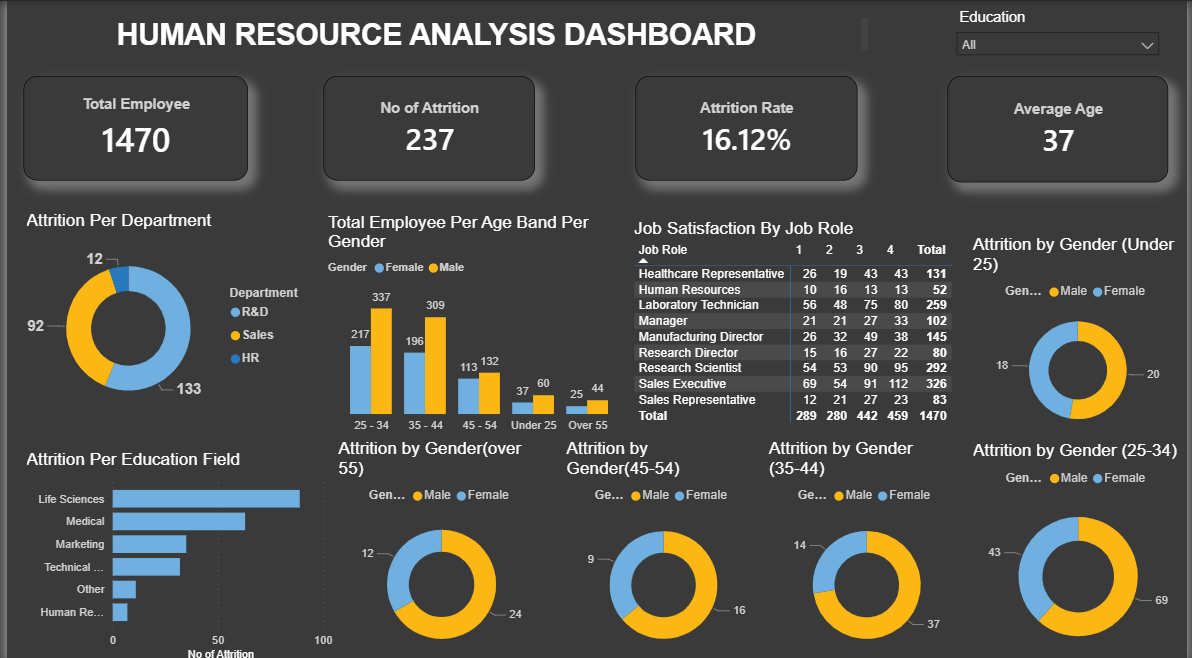

This screenshot's page, from the dashboard's own definition file:
{"tool":"powerbi","page":{"name":"Page 1","canvas":[1280,720],"ordinal":0},"visuals":[{"type":"cardVisual","fields":{"Data":["HR data._Total Employee"]},"box":[17.2,81.6,243.5,113.2],"z":0},{"type":"cardVisual","fields":{"Data":["HR data._No of Attrition"]},"box":[343.8,81.6,229.2,113.2],"z":1000},{"type":"cardVisual","fields":{"Data":["HR data.% Attrition"]},"box":[681.4,81.8,240.8,113.6],"z":2000},{"type":"cardVisual","fields":{"Data":["HR data._Average Age"]},"box":[1020.6,81.8,239.2,115.1],"z":3000},{"type":"textbox","box":[0,13.6,938.8,45.4],"z":4000},{"type":"donutChart","title":" Attrition Per Department","fields":{"Category":["HR data.Department"],"Y":["HR data._No of Attrition"]},"box":[16.7,227.1,327.1,233.2],"z":5000},{"type":"clusteredColumnChart","title":"Total Employee Per Age Band Per Gender","fields":{"Category":["HR data.CF_age band"],"Y":["HR data._Total Employee"],"Series":["HR data.Gender"]},"box":[343.7,227.9,338.2,248.2],"z":6000},{"type":"pivotTable","title":"Job Satisfaction By Job Role","fields":{"Rows":["HR data.Job Role"],"Columns":["HR data.Job Satisfaction"],"Values":["HR data._Total Employee"]},"box":[674.6,235.3,362.1,233.5],"z":7000},{"type":"barChart","title":"Attrition Per Education Field","fields":{"Y":["HR data._No of Attrition"],"Category":["HR data.Education Field"]},"box":[16.5,486.5,341.9,233.5],"z":7001},{"type":"donutChart","title":" Attrition by Gender (Under 25)","fields":{"Category":["HR data.Gender"],"Y":["HR data._No of Attrition"]},"box":[1042.8,253.5,236.3,222],"z":7002},{"type":"donutChart","title":" Attrition by Gender (25-34)","fields":{"Category":["HR data.Gender"],"Y":["HR data._No of Attrition"]},"box":[1042.3,476.1,237.1,244.5],"z":7003},{"type":"donutChart","title":" Attrition by Gender (35-44)","fields":{"Category":["HR data.Gender"],"Y":["HR data._No of Attrition"]},"box":[820.7,475.5,221.1,245.3],"z":7004},{"type":"donutChart","title":" Attrition by Gender(45-54)","fields":{"Category":["HR data.Gender"],"Y":["HR data._No of Attrition"]},"box":[601.1,475.5,219.6,245.3],"z":7005},{"type":"donutChart","title":" Attrition by Gender(over 55)","fields":{"Category":["HR data.Gender"],"Y":["HR data._No of Attrition"]},"box":[354.6,475,232.6,244],"z":7006},{"type":"slicer","fields":{"Values":["HR data.Education"]},"box":[1020.6,3,239.2,66.6],"z":7007}]}

Visuals, with their boxes in screenshot pixels (x1, y1, x2, y2), scaled from the page's 1280x720 canvas onto the 1192x658 screenshot:
cardVisual - HR data._Total Employee: [left=16, top=75, right=243, bottom=178]
cardVisual - HR data._No of Attrition: [left=320, top=75, right=534, bottom=178]
cardVisual - HR data.% Attrition: [left=635, top=75, right=859, bottom=179]
cardVisual - HR data._Average Age: [left=950, top=75, right=1173, bottom=180]
textbox: [left=0, top=12, right=874, bottom=54]
" Attrition Per Department" donutChart: [left=16, top=208, right=320, bottom=421]
"Total Employee Per Age Band Per Gender" clusteredColumnChart: [left=320, top=208, right=635, bottom=435]
"Job Satisfaction By Job Role" pivotTable: [left=628, top=215, right=965, bottom=428]
"Attrition Per Education Field" barChart: [left=15, top=445, right=334, bottom=657]
" Attrition by Gender (Under 25)" donutChart: [left=971, top=232, right=1191, bottom=435]
" Attrition by Gender (25-34)" donutChart: [left=971, top=435, right=1191, bottom=657]
" Attrition by Gender (35-44)" donutChart: [left=764, top=435, right=970, bottom=657]
" Attrition by Gender(45-54)" donutChart: [left=560, top=435, right=764, bottom=657]
" Attrition by Gender(over 55)" donutChart: [left=330, top=434, right=547, bottom=657]
slicer - HR data.Education: [left=950, top=3, right=1173, bottom=64]
